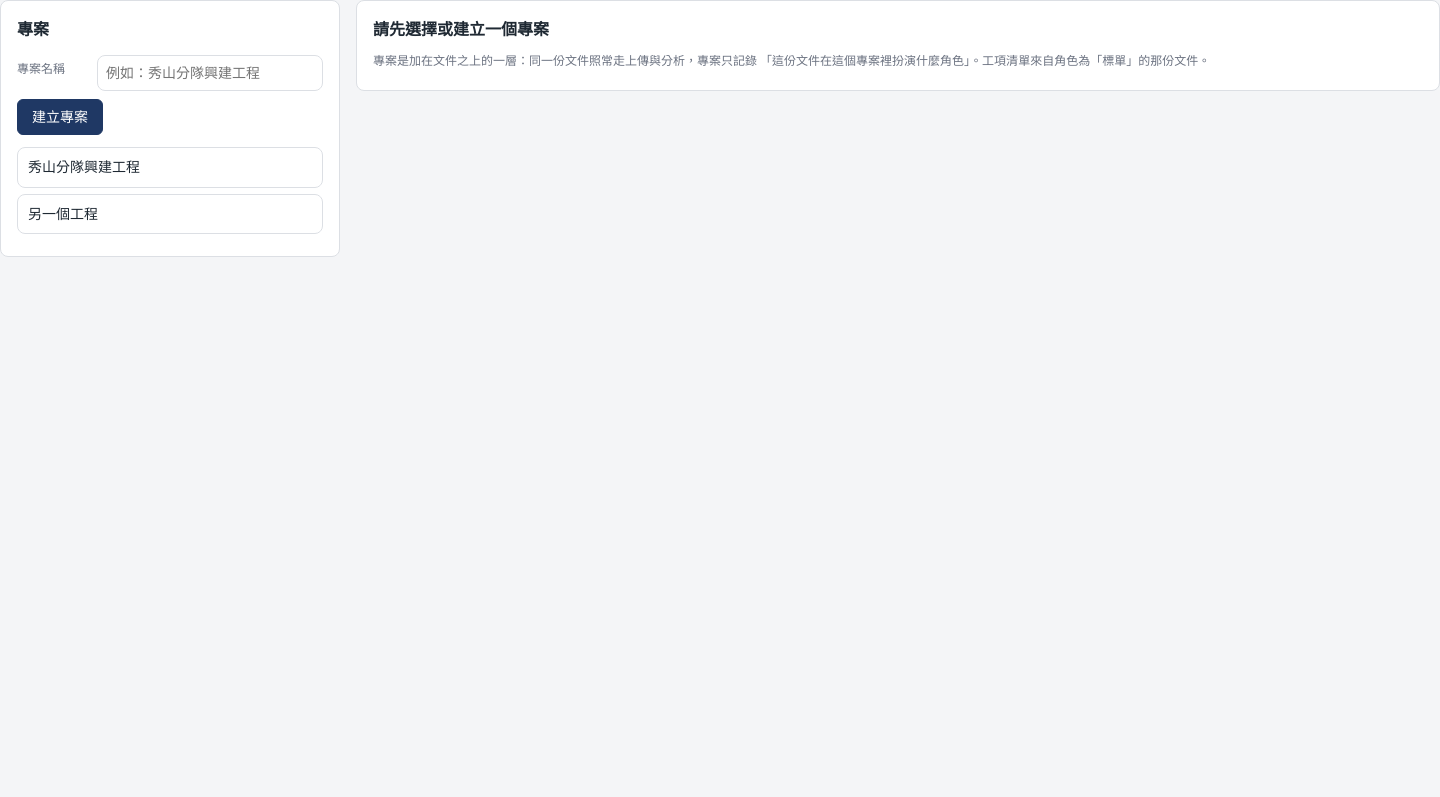
Test case: ProjectWorkItemsPage › 收合與展開不會重新向後端要資料
The image size is (1440, 797).
Click the list item "秀山分隊興建工程" at coordinates (170, 168), box [17, 147, 323, 188]
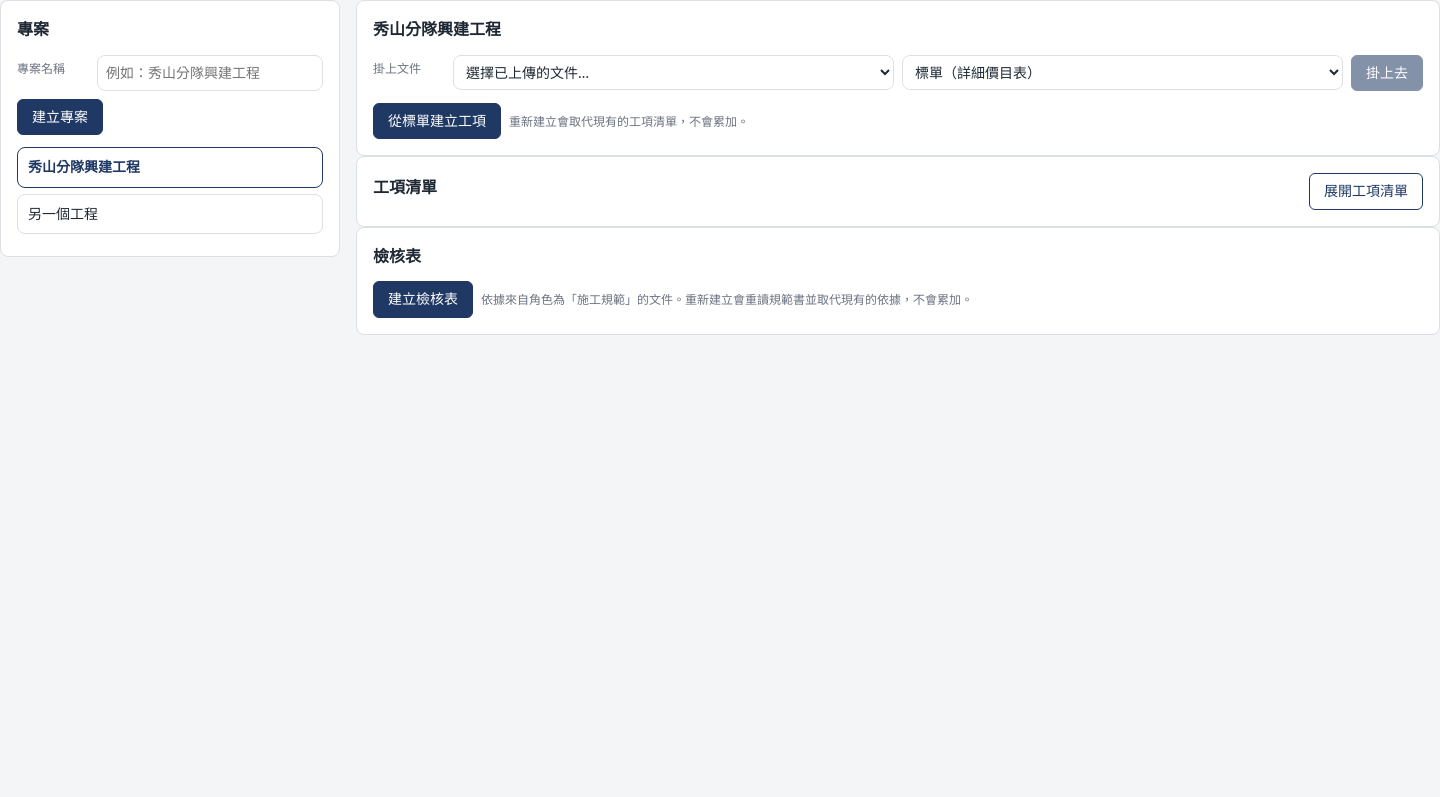
Click the button "展開工項清單" at coordinates (1366, 192), box [1309, 173, 1423, 210]
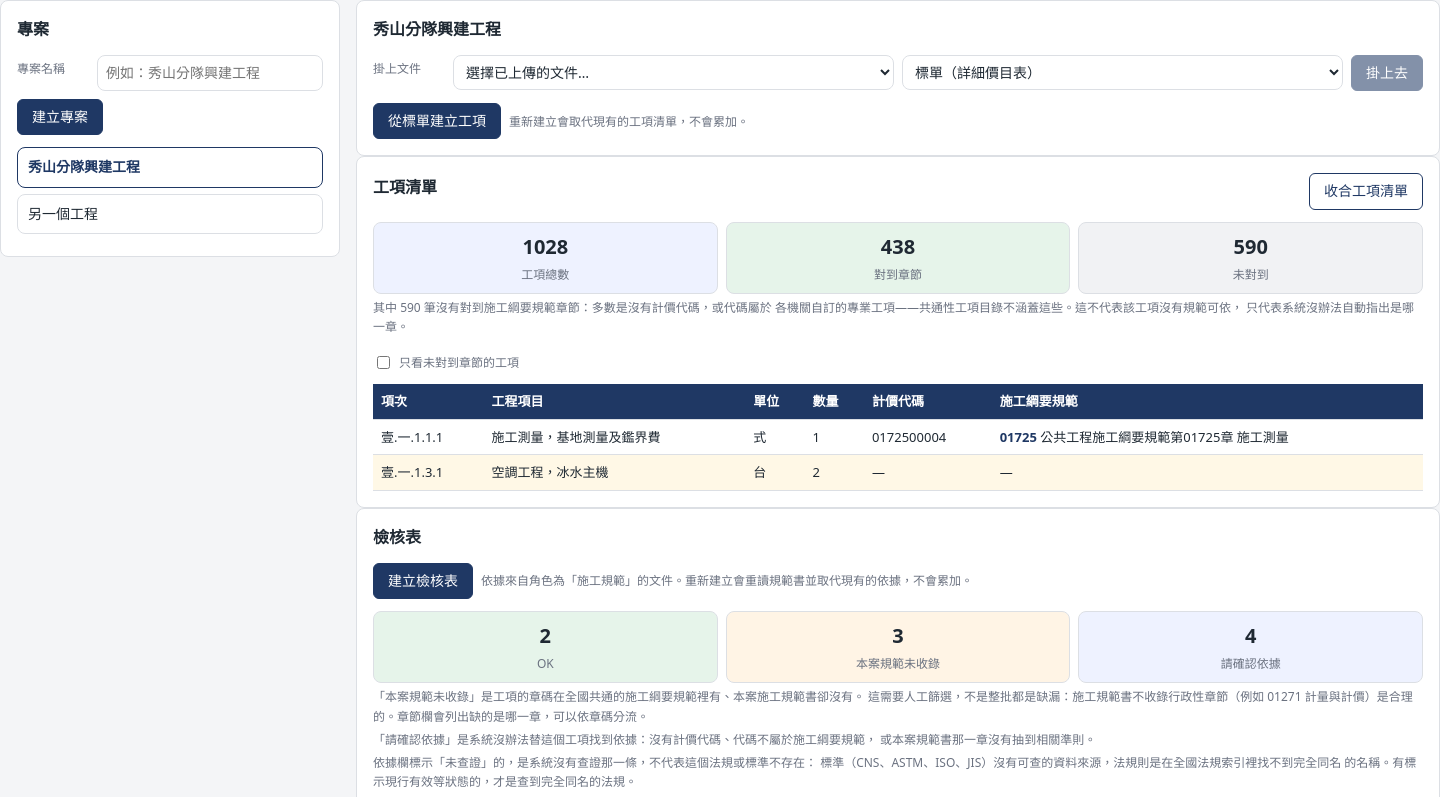
Expected: the text "壹.一.1.1.1" is shown, [373, 419, 484, 455]
Click the button "收合工項清單" at coordinates (1366, 192), box [1309, 173, 1423, 210]
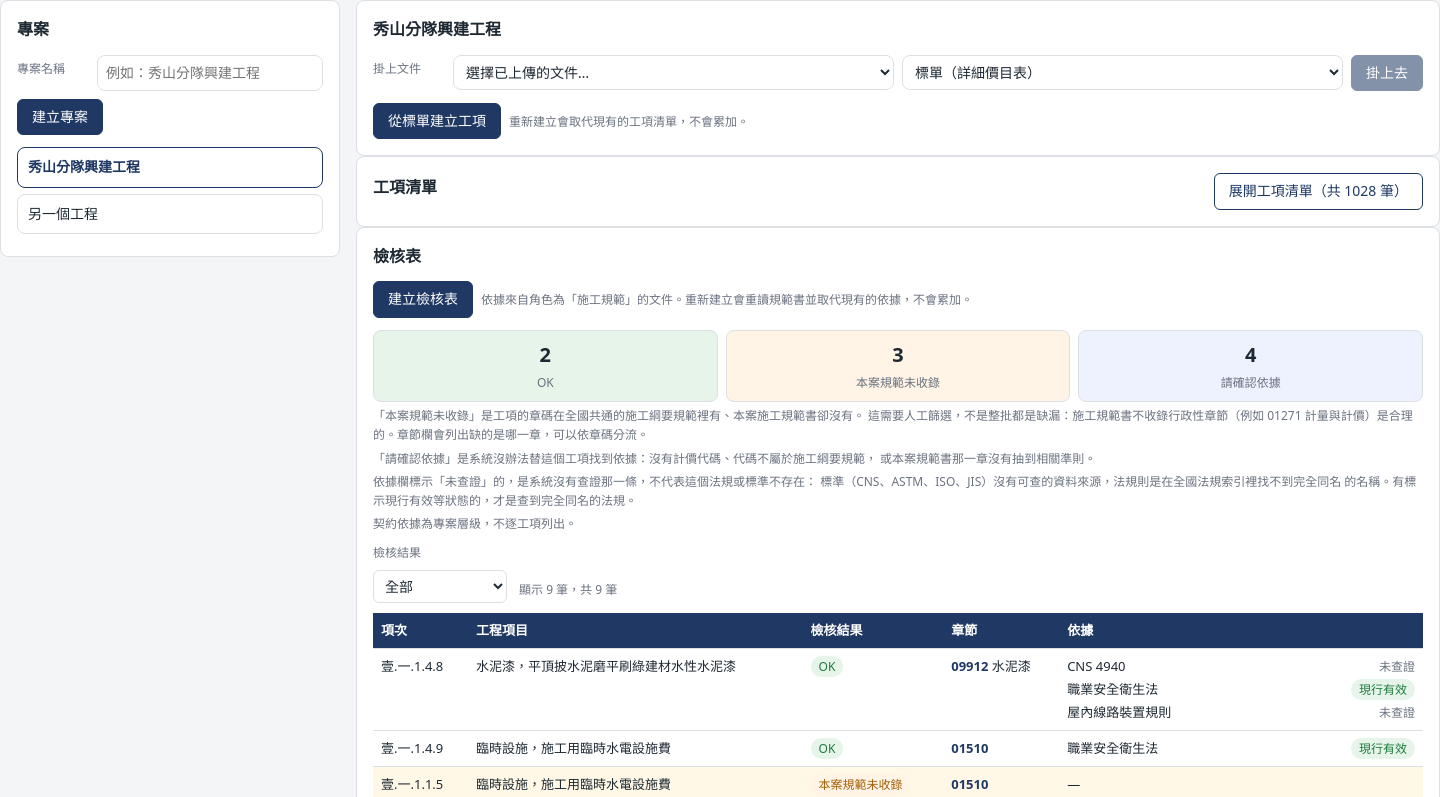
Click the button "展開工項清單（共 1028 筆）" at coordinates (1318, 192), box [1214, 173, 1423, 210]
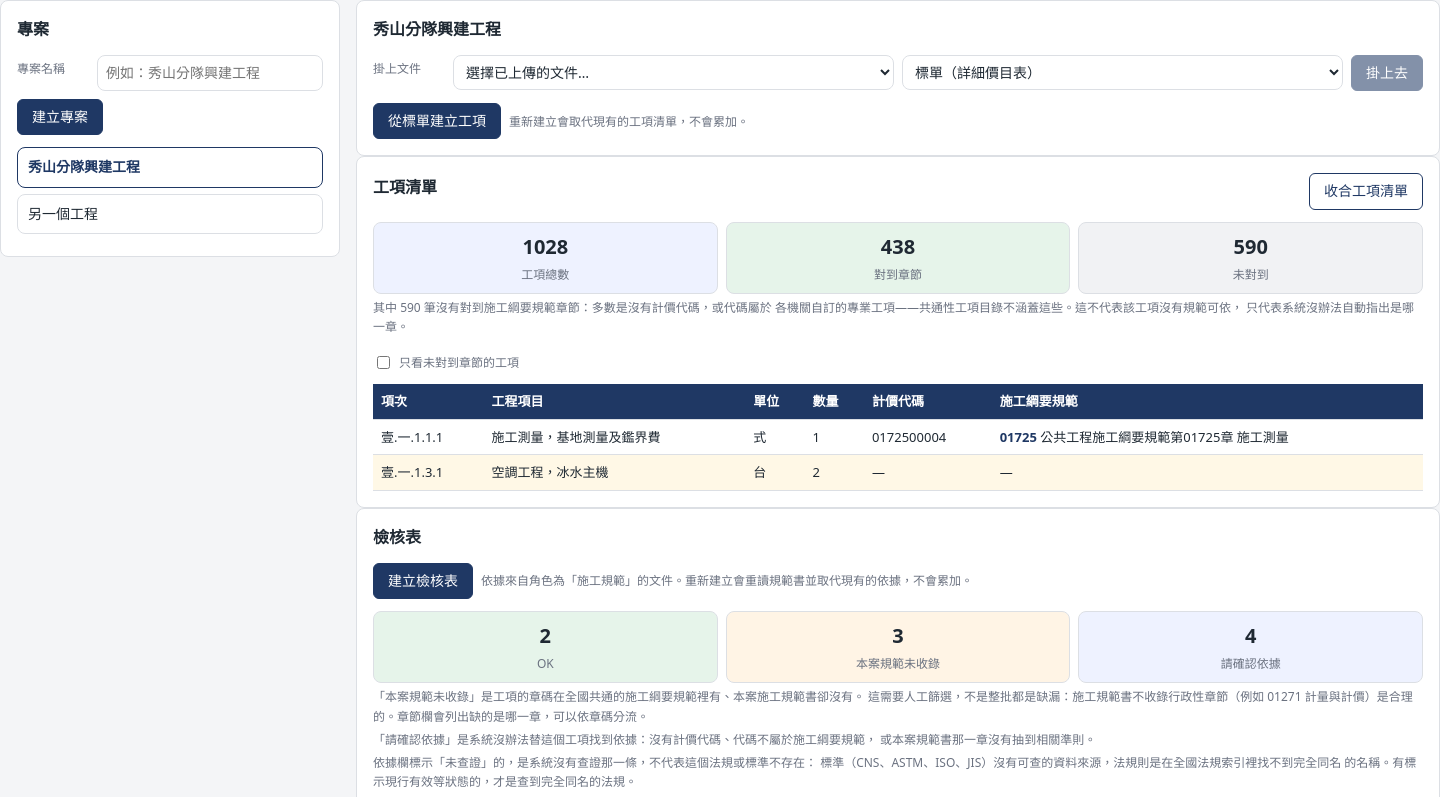
Expected: the text "壹.一.1.1.1" is shown, [373, 419, 484, 455]
